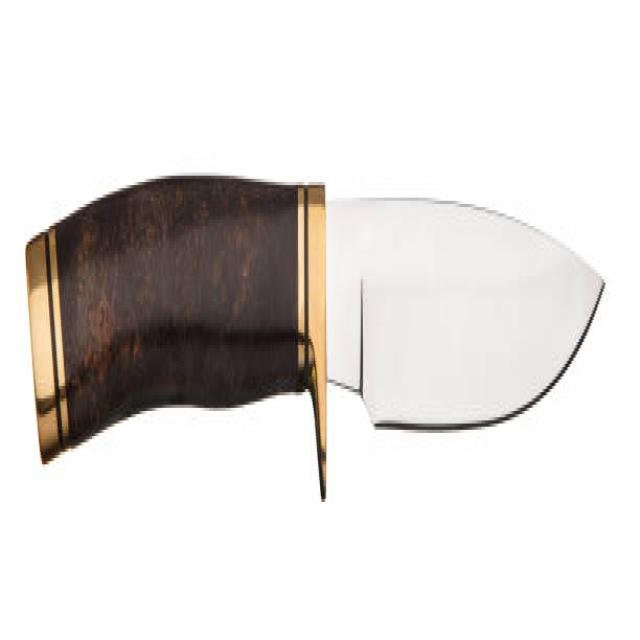knife: (25, 158, 606, 501)
